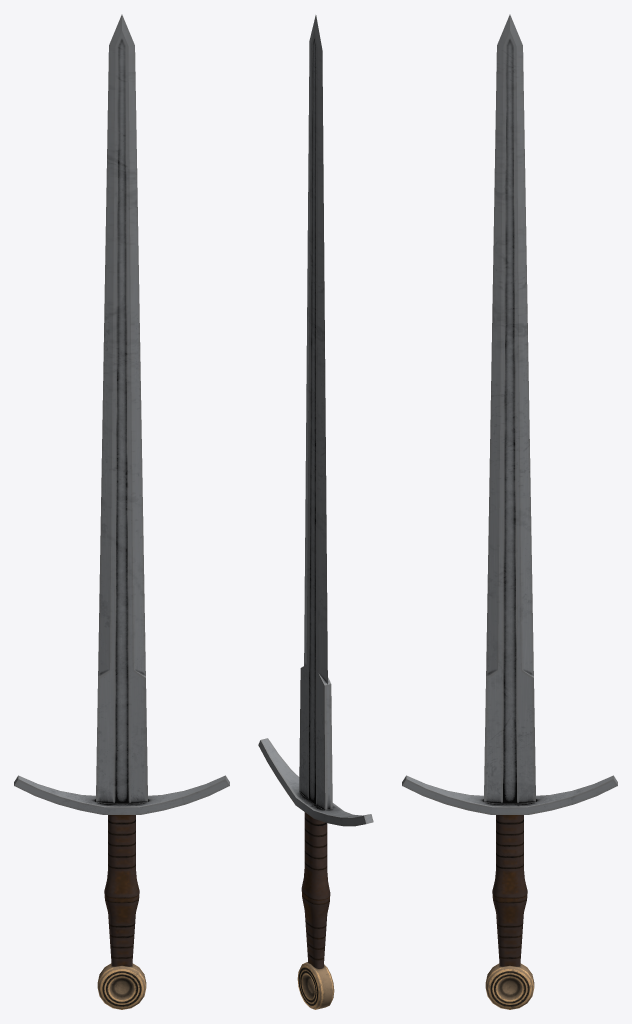
File: longsword.glb
3 renders of one model, left to right at view 1: azimuth 90°, elevation 25°; view 2: azimuth 210°, elevation 25°; view 3: azimuth 270°, elevation 25°, orthographic.
Parts seen in each view (by area): view 1: Longsword; view 2: Longsword; view 3: Longsword.
Part boxes in pixels (left/top/right/bottom): Longsword: left=14, top=14, right=229, bottom=1009; Longsword: left=258, top=15, right=373, bottom=1009; Longsword: left=402, top=14, right=617, bottom=1009.
Size of the model in its own units: 0.03 by 1.26 by 0.2483.
2 materials, 2 textured.
